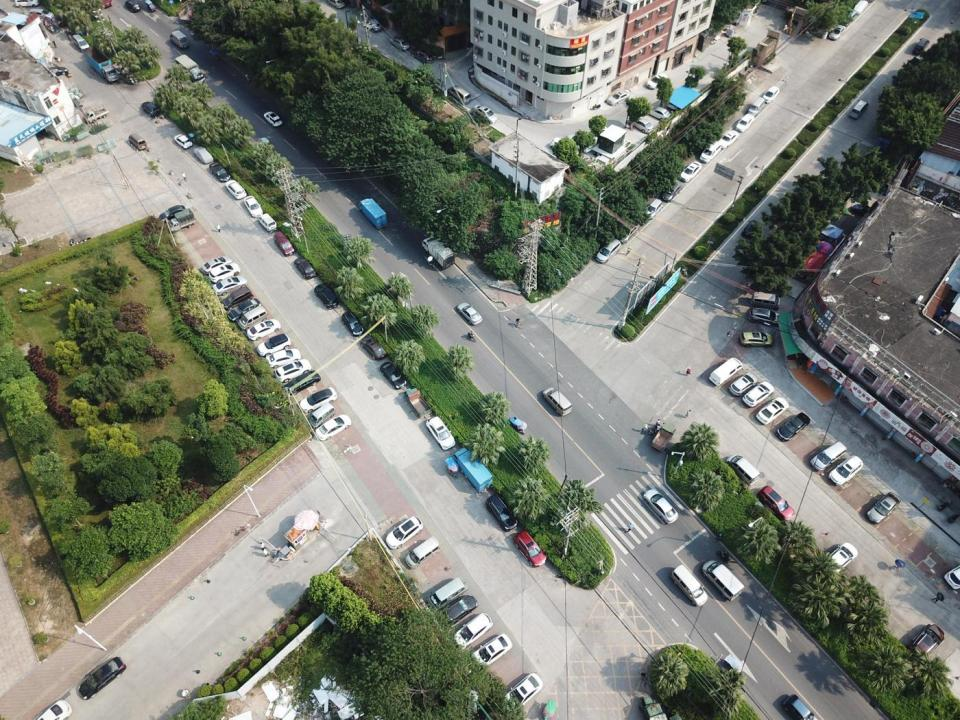car: (78, 656, 127, 700), (503, 673, 544, 711), (470, 633, 512, 668), (452, 613, 492, 649), (757, 486, 795, 523), (642, 488, 679, 525), (906, 623, 945, 658), (821, 542, 858, 578), (385, 515, 424, 549), (441, 593, 479, 627), (513, 530, 547, 567), (485, 494, 518, 531), (425, 415, 456, 450), (828, 456, 864, 486), (867, 492, 901, 523), (783, 693, 822, 720), (315, 413, 352, 441), (776, 412, 810, 442), (299, 387, 337, 413), (282, 370, 320, 394), (274, 358, 312, 382), (756, 397, 789, 424), (33, 698, 72, 720), (257, 332, 292, 356), (227, 298, 262, 322), (743, 382, 774, 408), (246, 318, 281, 341), (380, 360, 407, 389), (264, 348, 302, 368), (728, 372, 758, 397), (748, 307, 785, 327), (213, 275, 248, 296), (360, 334, 387, 360), (313, 283, 340, 309), (208, 262, 241, 283), (202, 255, 233, 276), (550, 137, 580, 158), (458, 302, 484, 325), (341, 311, 364, 336), (740, 331, 773, 348), (158, 204, 186, 224), (615, 222, 640, 244), (567, 133, 593, 153), (661, 180, 684, 202), (473, 104, 498, 124), (295, 257, 317, 279), (680, 161, 702, 183), (225, 179, 247, 200), (628, 117, 655, 134), (943, 563, 960, 589), (646, 105, 672, 122), (209, 162, 231, 182), (717, 130, 739, 150), (244, 195, 263, 218), (734, 113, 755, 133), (646, 72, 669, 90), (606, 90, 631, 106), (193, 146, 214, 165), (852, 204, 877, 219), (411, 48, 434, 64), (741, 219, 759, 238), (264, 111, 284, 128), (389, 36, 410, 52), (762, 86, 780, 104), (141, 101, 161, 117), (45, 66, 69, 79), (828, 24, 846, 41), (174, 134, 193, 150), (364, 17, 382, 33), (666, 95, 684, 110), (134, 0, 156, 12), (853, 0, 869, 16), (125, 0, 141, 14), (14, 0, 40, 8), (326, 0, 346, 10)
truck: (450, 446, 493, 494), (82, 46, 119, 82), (422, 235, 455, 270), (175, 54, 205, 88), (357, 198, 388, 229), (639, 694, 668, 720), (167, 208, 196, 234), (84, 108, 110, 124), (170, 30, 190, 48)
van: (702, 559, 745, 602), (671, 564, 708, 606), (426, 576, 468, 611), (405, 537, 440, 570), (810, 441, 847, 471), (726, 454, 761, 485), (709, 357, 743, 386), (542, 388, 572, 416), (237, 305, 269, 331), (221, 286, 254, 311), (306, 402, 336, 428), (596, 238, 621, 263), (273, 231, 295, 257), (750, 292, 781, 310), (446, 84, 472, 105), (700, 140, 722, 162), (848, 99, 869, 119), (644, 198, 663, 220), (258, 213, 278, 233), (912, 37, 931, 56), (747, 96, 765, 116), (29, 8, 54, 21), (72, 34, 90, 52), (128, 133, 147, 150)
